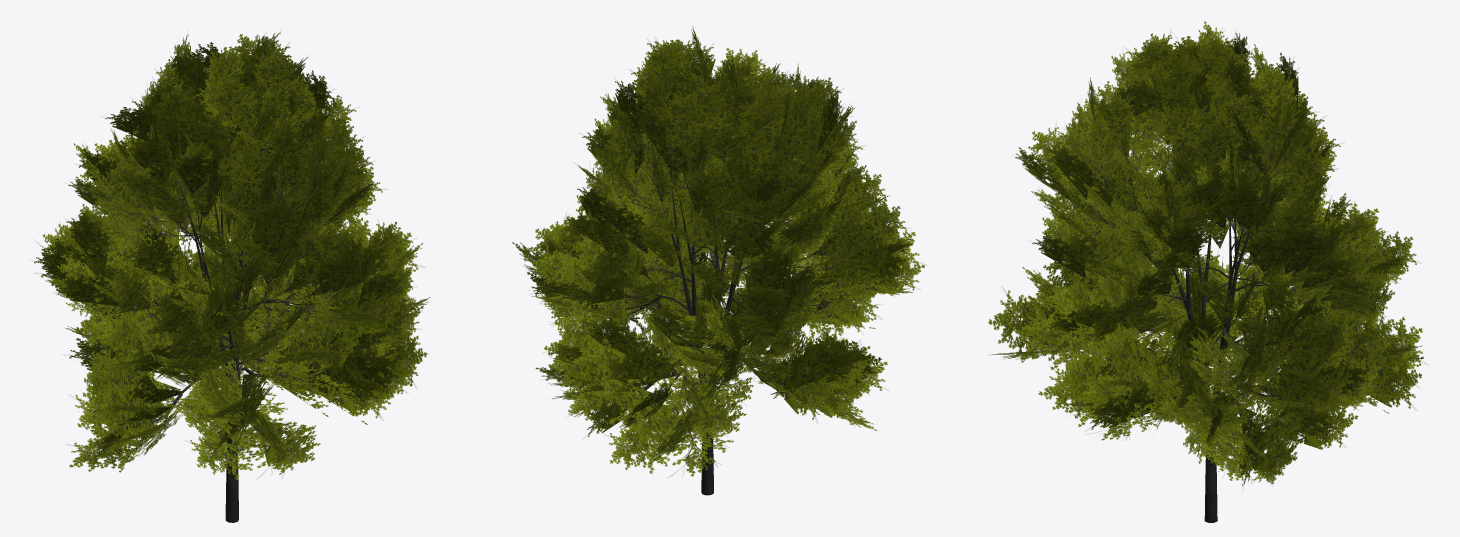
The model's file is Test_Tree.glb.
The picture shows the model from 3 angles, left to right: view 1: azimuth 30°, elevation 25°; view 2: azimuth 150°, elevation 25°; view 3: azimuth 270°, elevation 25°; orthographic projection. The views are drawn at different scales.
Visible parts, largest first — view 1: Maple_24; view 2: Maple_24; view 3: Maple_24.
Boxes of the visible parts, box(x1,y1,x2,y2) form: Maple_24: box(34, 32, 430, 522); Maple_24: box(512, 26, 925, 495); Maple_24: box(988, 21, 1424, 522).
Bounding box in the file's own units: 17.66 × 19.69 × 17.27.
Materials: 2 (2 with a texture image).
